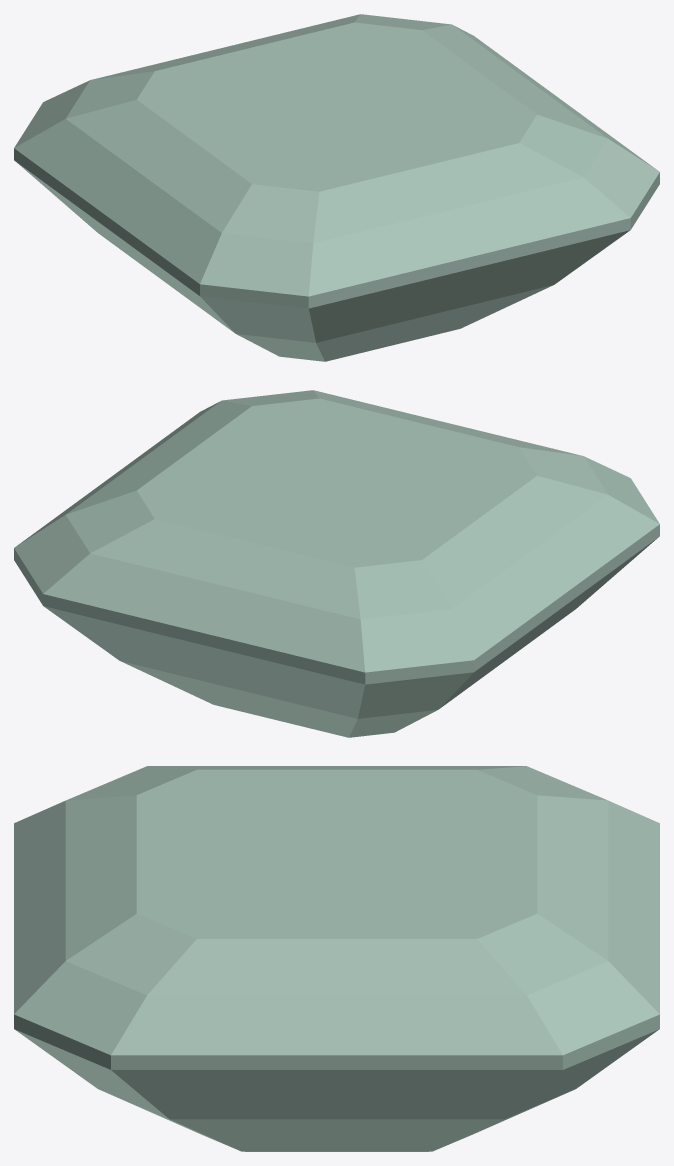
Rendered from alexandrite.glb.
The picture shows the model from 3 angles, top to bottom: view 1: azimuth 30°, elevation 25°; view 2: azimuth 150°, elevation 25°; view 3: azimuth 270°, elevation 25°; orthographic projection. The views are drawn at different scales.
Visible parts, largest first — view 1: alexandrite; view 2: alexandrite; view 3: alexandrite.
Part boxes in pixels (x1,y1,x2,y2): alexandrite: [14, 14, 659, 361]; alexandrite: [14, 390, 659, 737]; alexandrite: [14, 766, 659, 1151].
Size of the model in its own units: 0.25 by 0.12 by 0.25.
